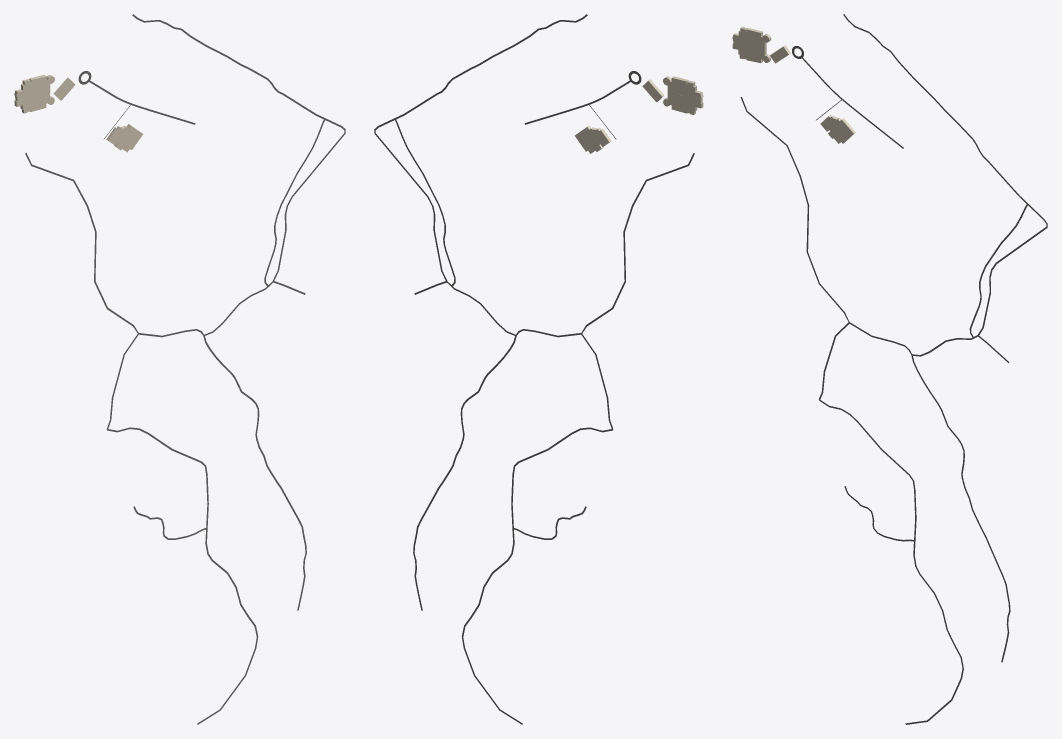
Rendered from historic-palestine-07_17_3493_3118.glb.
3 renders of one model, left to right at view 1: azimuth 30°, elevation 25°; view 2: azimuth 150°, elevation 25°; view 3: azimuth 330°, elevation 25°, orthographic. The views are drawn at different scales.
Visible parts, largest first — view 1: Road .001, Building_.001, Road, Road .005, Road .008, Building_; view 2: Road .001, Building_.001, Road, Road .005, Road .008, Building_; view 3: Road .001, Building_.001, Road, Road .005, Road .008, Building_.
Part boxes in pixels (box(x1,y1,x2,y2)): Road .001: box(132, 14, 345, 337); Building_.001: box(14, 75, 54, 113); Road: box(107, 427, 258, 724); Road .005: box(25, 153, 138, 429); Road .008: box(203, 336, 306, 610); Building_: box(106, 124, 142, 152); Road .001: box(374, 14, 587, 337); Building_.001: box(663, 76, 703, 114); Road: box(461, 427, 612, 724); Road .005: box(581, 153, 694, 429); Road .008: box(413, 336, 516, 610); Building_: box(574, 125, 611, 153); Road .001: box(843, 14, 1047, 356); Building_.001: box(732, 26, 771, 63); Road: box(819, 399, 963, 724); Road .005: box(740, 97, 849, 399); Road .008: box(911, 355, 1010, 662); Building_: box(820, 114, 855, 143).
Size of the model in its own units: 670 by 1413 by 8.7.
